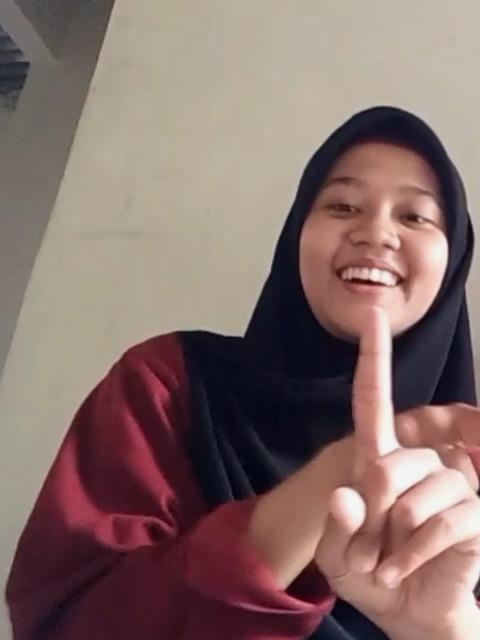Z: (307, 303, 480, 640)
